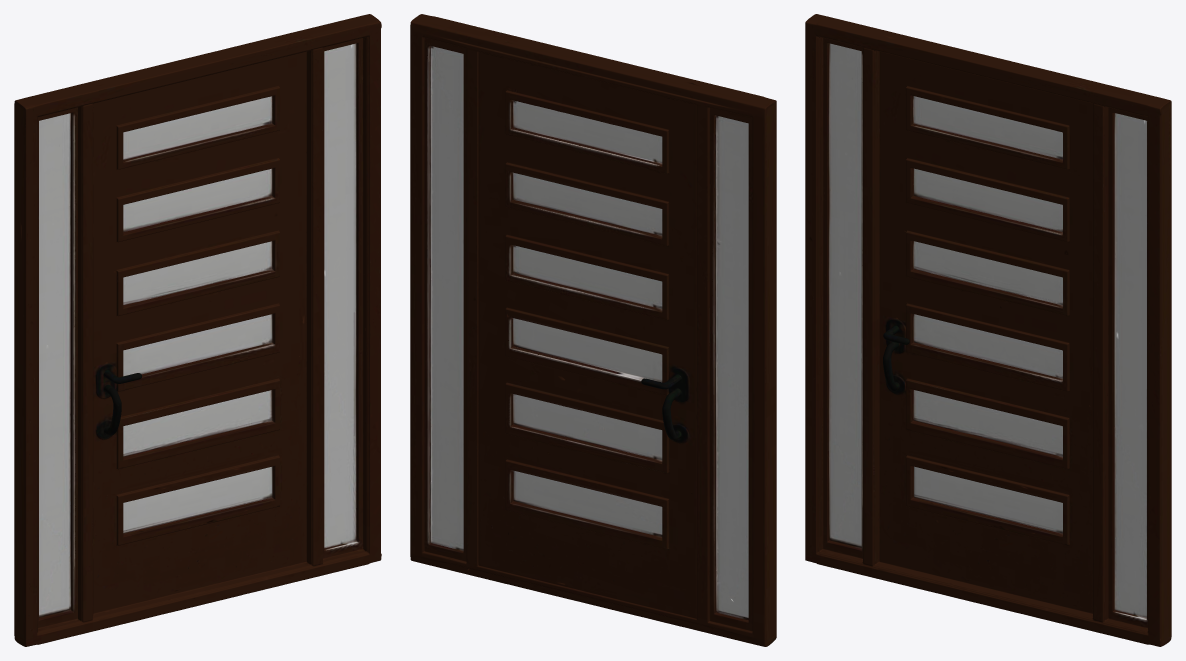
3 renders of one model, left to right at view 1: azimuth 30°, elevation 25°; view 2: azimuth 150°, elevation 25°; view 3: azimuth 330°, elevation 25°, orthographic.
Parts seen in each view (by area): view 1: material; view 2: material; view 3: material.
Boxes of the visible parts, x1,y1,x2,y2 form: material: (14,14,381,646); material: (410,14,776,646); material: (805,14,1171,646).
Size of the model in its own units: 0.6811 by 0.9884 by 0.1147.
1 material, 1 textured.
